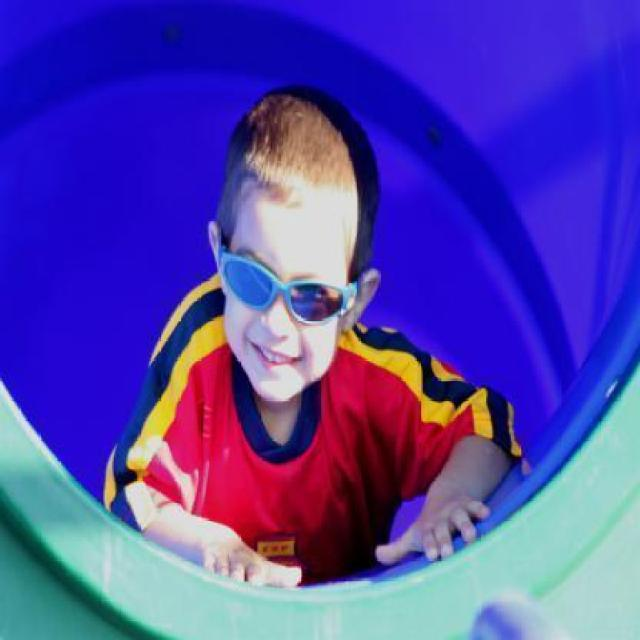face_nomask: (221, 238, 339, 380)
glasses: (218, 230, 356, 324)
hand_noglove: (364, 490, 491, 564), (194, 525, 308, 603)
head_nohelmet: (230, 99, 373, 207)
person: (122, 104, 526, 556)
